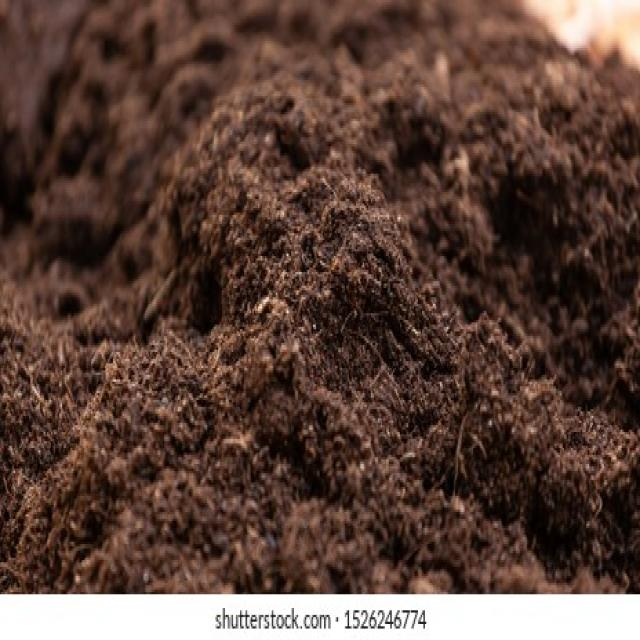Black Soil: (232, 156, 589, 533)
